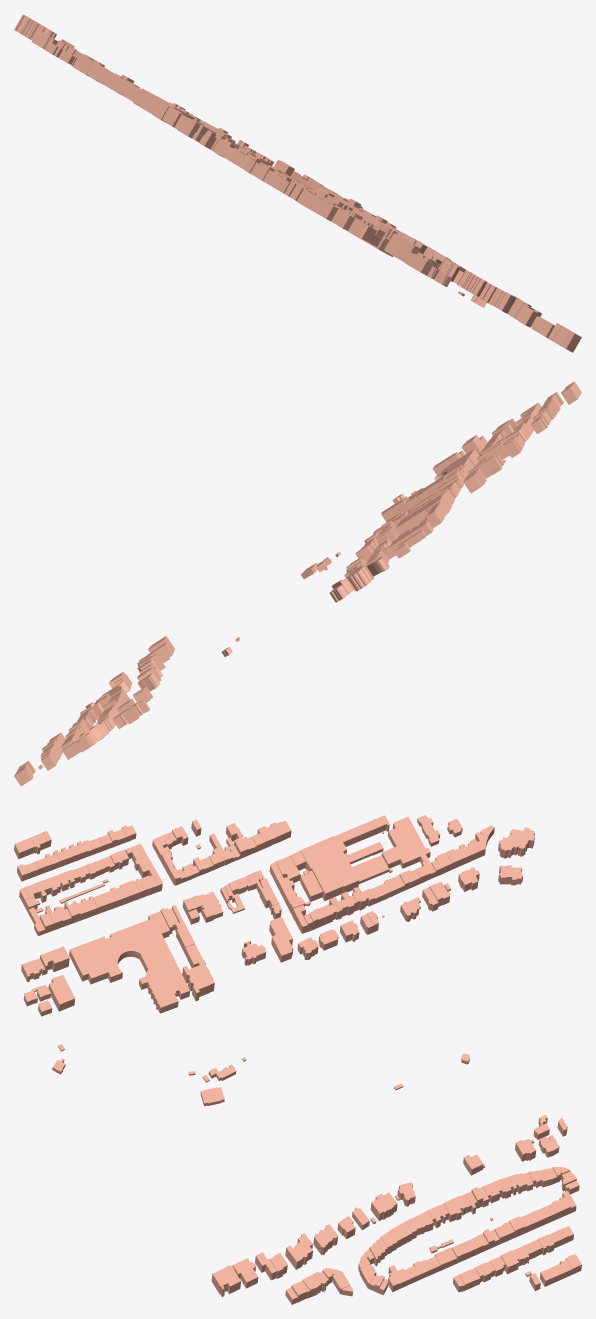
The picture shows the model from 3 angles, top to bottom: view 1: azimuth 30°, elevation 25°; view 2: azimuth 150°, elevation 25°; view 3: azimuth 270°, elevation 25°; orthographic projection. The views are drawn at different scales.
Bounding box in the file's own units: 510 × 391 × 647.
